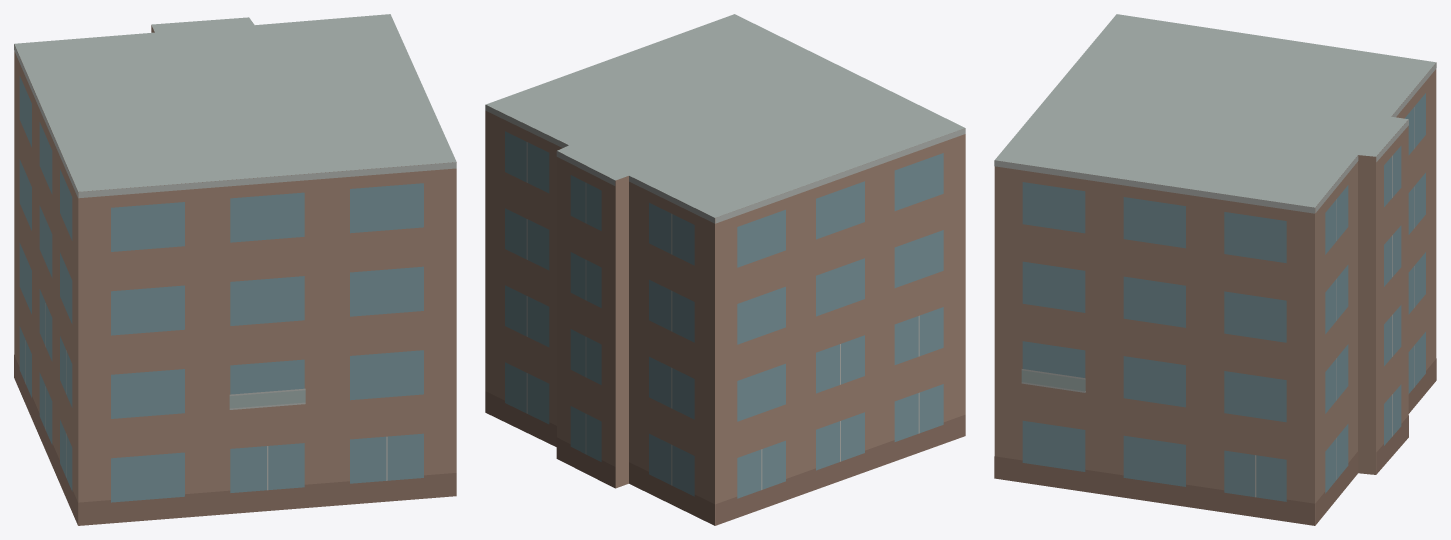
The model's file is survey-upis-33017776.glb.
3 views of the same model, side by side, from view 1: azimuth 30°, elevation 25°; view 2: azimuth 150°, elevation 25°; view 3: azimuth 270°, elevation 25° (orthographic). The views are drawn at different scales.
Visible parts, largest first — view 1: survey-upis-33017776.tmp; view 2: survey-upis-33017776.tmp; view 3: survey-upis-33017776.tmp.
Boxes of the visible parts, left/top/right/bottom form: survey-upis-33017776.tmp: left=14, top=14, right=456, bottom=525; survey-upis-33017776.tmp: left=485, top=14, right=965, bottom=525; survey-upis-33017776.tmp: left=994, top=14, right=1436, bottom=525.
Bounding box in the file's own units: 16.65 × 12.75 × 16.06.
